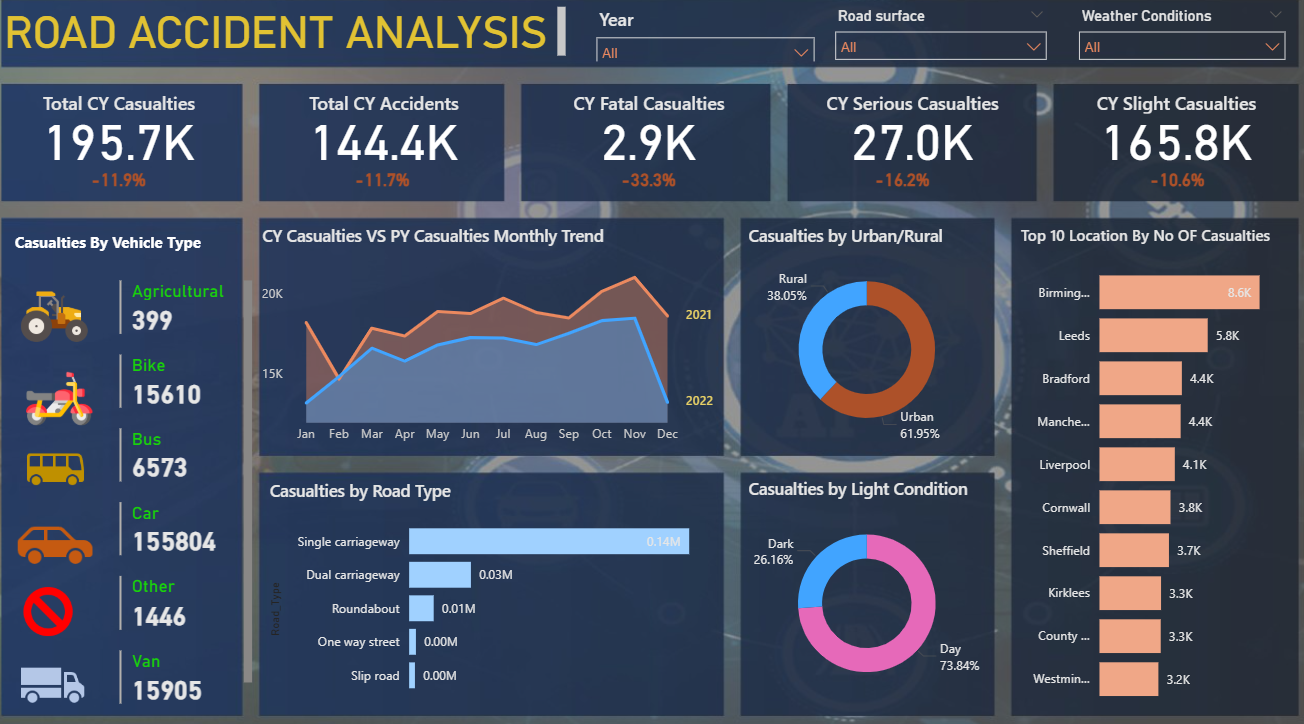

The dashboard page shown, as its layout file describes it:
{"tool":"powerbi","page":{"name":"Page 1","canvas":[1280,720],"ordinal":0},"visuals":[{"type":"card","title":"Total CY Casualties","fields":{"Values":["Data.CY Casualties"]},"box":[12.3,98.8,230.5,87.8],"z":0},{"type":"card","fields":{"Values":["Data.YOY Casualties"]},"box":[78.2,163.3,97.4,46.7],"z":1000},{"type":"card","title":"Total CY Accidents","fields":{"Values":["Data.CY Accidents"]},"box":[267.6,98.8,230.5,87.8],"z":2000},{"type":"card","fields":{"Values":["Data.YoY Accidents"]},"box":[333.4,163.3,97.4,46.7],"z":3000},{"type":"card","title":"CY Fatal Casualties","fields":{"Values":["Data.CY Casualties"]},"box":[524.2,98.8,230.5,87.8],"z":4000},{"type":"card","fields":{"Values":["Data.YOY Casualties"]},"box":[590.1,163.3,97.4,46.7],"z":5000},{"type":"card","title":"CY Serious Casualties","fields":{"Values":["Data.CY Casualties"]},"box":[778,98.8,230.5,87.8],"z":6000},{"type":"card","fields":{"Values":["Data.YOY Casualties"]},"box":[834.3,163.3,97.4,46.7],"z":7000},{"type":"card","title":"CY Slight Casualties","fields":{"Values":["Data.CY Casualties"]},"box":[1033.3,98.8,230.5,87.8],"z":8000},{"type":"card","fields":{"Values":["Data.YOY Casualties"]},"box":[1100.5,163.3,97.4,46.7],"z":9000},{"type":"textbox","box":[12.3,13.7,551.6,57.6],"z":10000},{"type":"multiRowCard","fields":{"Values":["Data.Vehicle_Type (groups)","Data.CY Casualties"]},"box":[123.1,277.5,137.5,419.8],"z":11000},{"type":"image","box":[24.1,277.5,80.8,78.4],"z":12000},{"type":"image","box":[29,359.5,80.8,73.6],"z":13000},{"type":"image","box":[31.4,424.7,70,78.4],"z":14000},{"type":"image","box":[21.7,567,74.8,70],"z":15000},{"type":"image","box":[21.7,492.2,88.1,91.7],"z":16000},{"type":"image","box":[25.3,624.9,76,95.3],"z":17000},{"type":"textbox","box":[21.7,230.4,201.5,42.2],"z":18000},{"type":"areaChart","title":"CY Casualties VS PY Casualties Monthly Trend","fields":{"Category":["Calendar.Month"],"Y":["Sum(Data.Number_of_Casualties)"],"Series":["Calendar.Date.Variation.Date Hierarchy.Year"]},"box":[260.6,228,448.8,220.8],"z":19000},{"type":"donutChart","title":"Casualties by Urban/Rural","fields":{"Category":["Data.Urban_or_Rural_Area"],"Y":["Data.CY Casualties"]},"box":[729.9,228,238.9,220.8],"z":20000},{"type":"donutChart","title":" Casualties by Light Condition","fields":{"Y":["Data.CY Casualties"],"Category":["Data.Light_Conditions (groups)"]},"box":[729.9,471.7,238.9,223.2],"z":21000},{"type":"barChart","title":"Casualties by Road Type","fields":{"Category":["Data.Road_Type"],"Y":["Data.CY Casualties"]},"box":[267.8,474.1,439.1,220.8],"z":22000},{"type":"slicer","fields":{"Values":["Data.Weather_Conditions (groups)"]},"box":[1043.6,13.3,219.6,57.9],"z":23000},{"type":"slicer","fields":{"Values":["Data.Road_Surface_Conditions (groups)"]},"box":[808.3,13.3,224.4,57.9],"z":24000},{"type":"clusteredBarChart","title":"Top 10 Location By No OF Casualties","fields":{"Category":["Data.Local_Authority_(District)"],"Y":["Sum(Data.Number_of_Casualties)"]},"box":[992.9,228,270.2,477.8],"z":25000},{"type":"slicer","fields":{"Values":["Calendar.Year"]},"box":[577.9,13.3,230.4,57.9],"z":25001}]}

Visuals, with their boxes in screenshot pixels (x1, y1, x2, y2), scaled from the page's 1280x720 canvas onto the 1304x724 screenshot:
"Total CY Casualties" card: [x1=13, y1=99, x2=247, y2=188]
card - Data.YOY Casualties: [x1=80, y1=164, x2=179, y2=211]
"Total CY Accidents" card: [x1=273, y1=99, x2=507, y2=188]
card - Data.YoY Accidents: [x1=340, y1=164, x2=439, y2=211]
"CY Fatal Casualties" card: [x1=534, y1=99, x2=769, y2=188]
card - Data.YOY Casualties: [x1=601, y1=164, x2=700, y2=211]
"CY Serious Casualties" card: [x1=793, y1=99, x2=1027, y2=188]
card - Data.YOY Casualties: [x1=850, y1=164, x2=949, y2=211]
"CY Slight Casualties" card: [x1=1053, y1=99, x2=1287, y2=188]
card - Data.YOY Casualties: [x1=1121, y1=164, x2=1220, y2=211]
textbox: [x1=13, y1=14, x2=574, y2=72]
multiRowCard - Data.Vehicle_Type (groups) x Data.CY Casualties: [x1=125, y1=279, x2=265, y2=701]
image: [x1=25, y1=279, x2=107, y2=358]
image: [x1=30, y1=361, x2=112, y2=436]
image: [x1=32, y1=427, x2=103, y2=506]
image: [x1=22, y1=570, x2=98, y2=641]
image: [x1=22, y1=495, x2=112, y2=587]
image: [x1=26, y1=628, x2=103, y2=723]
textbox: [x1=22, y1=232, x2=227, y2=274]
"CY Casualties VS PY Casualties Monthly Trend" areaChart: [x1=265, y1=229, x2=723, y2=451]
"Casualties by Urban/Rural" donutChart: [x1=744, y1=229, x2=987, y2=451]
" Casualties by Light Condition" donutChart: [x1=744, y1=474, x2=987, y2=699]
"Casualties by Road Type" barChart: [x1=273, y1=477, x2=720, y2=699]
slicer - Data.Weather_Conditions (groups): [x1=1063, y1=13, x2=1287, y2=72]
slicer - Data.Road_Surface_Conditions (groups): [x1=823, y1=13, x2=1052, y2=72]
"Top 10 Location By No OF Casualties" clusteredBarChart: [x1=1012, y1=229, x2=1287, y2=710]
slicer - Calendar.Year: [x1=589, y1=13, x2=823, y2=72]
